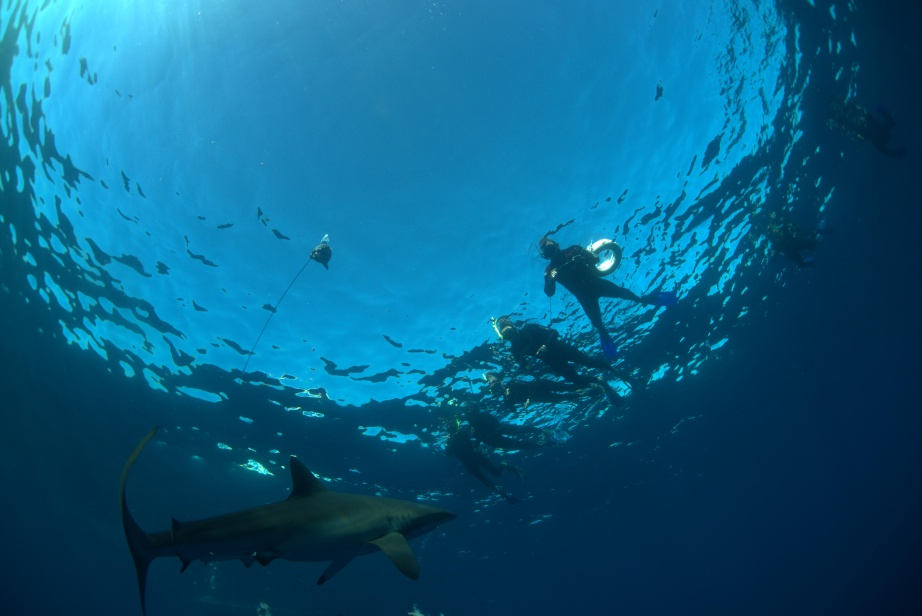Sedoso: (83, 409, 485, 616)
